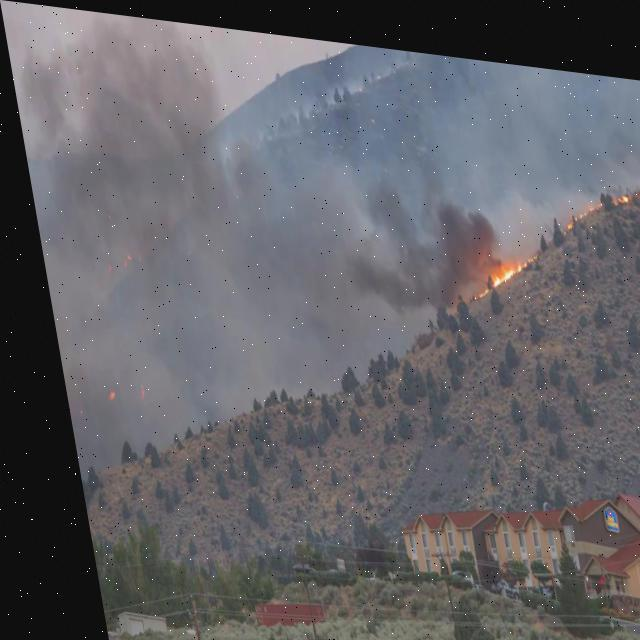Fire: (461, 235, 536, 291), (554, 192, 582, 219), (110, 248, 124, 267), (584, 184, 600, 200), (608, 176, 626, 189), (123, 383, 132, 398), (635, 164, 639, 185), (94, 389, 102, 398)
